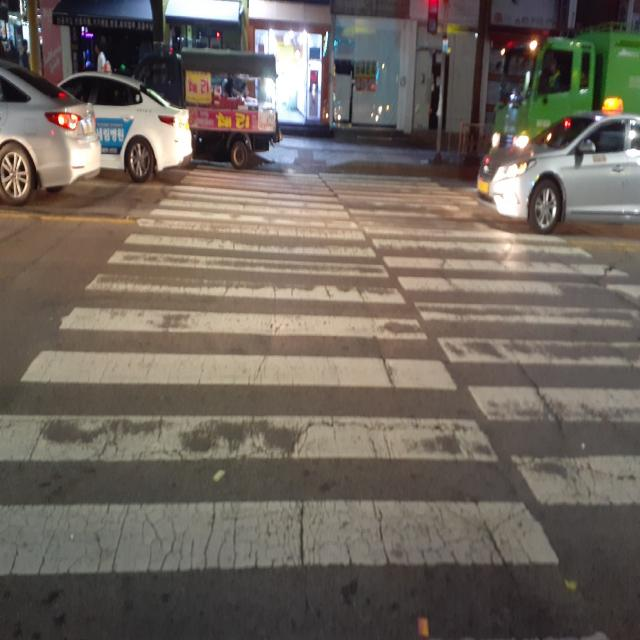빨간불: (430, 0, 437, 35)
횡단보도: (0, 160, 640, 640)
